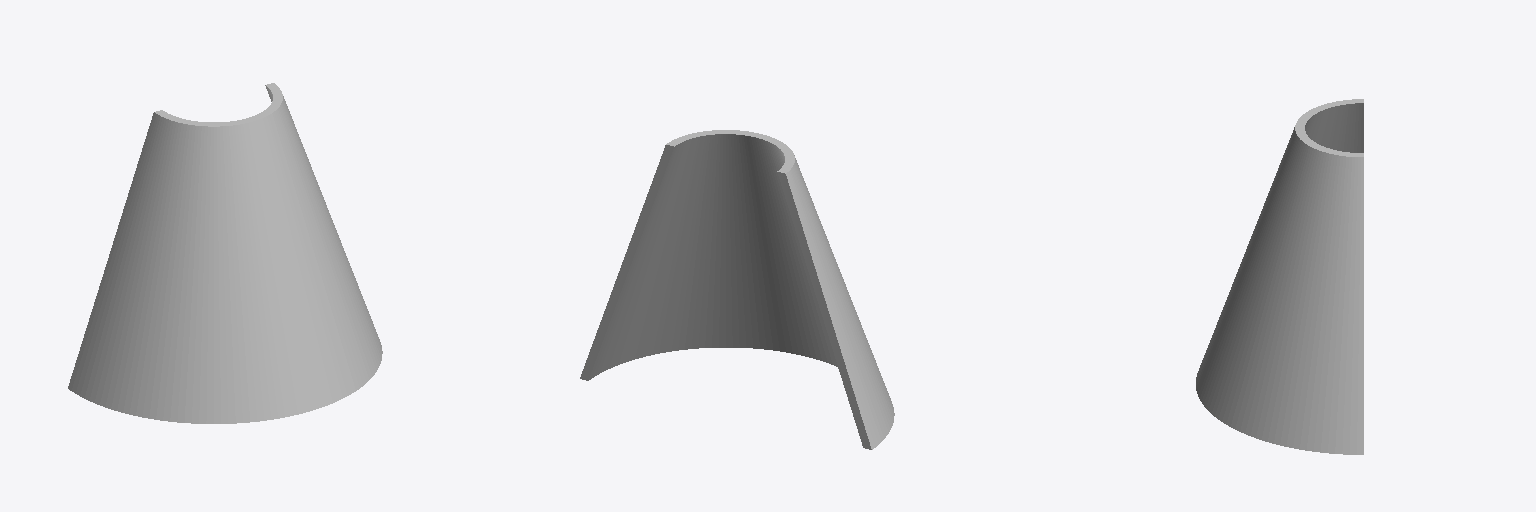
Rendered from Cover_Thin.obj.
3 renders of one model, left to right at view 1: azimuth 30°, elevation 25°; view 2: azimuth 150°, elevation 25°; view 3: azimuth 270°, elevation 25°, orthographic.
Parts seen in each view (by area): view 1: mesh2, mesh1; view 2: mesh0, mesh2, mesh4, mesh5, mesh1; view 3: mesh2, mesh0, mesh1.
Boxes of the visible parts, box(x1,y1,x2,y2) form: mesh2: box(68, 96, 382, 423); mesh1: box(155, 83, 282, 126); mesh0: box(589, 134, 837, 379); mesh2: box(786, 155, 894, 449); mesh4: box(580, 145, 673, 380); mesh5: box(777, 172, 871, 449); mesh1: box(666, 130, 794, 173); mesh2: box(1196, 127, 1363, 454); mesh0: box(1305, 103, 1363, 152); mesh1: box(1295, 99, 1363, 156).
Bounding box in the file's own units: 0.1693 × 0.1414 × 0.0847.